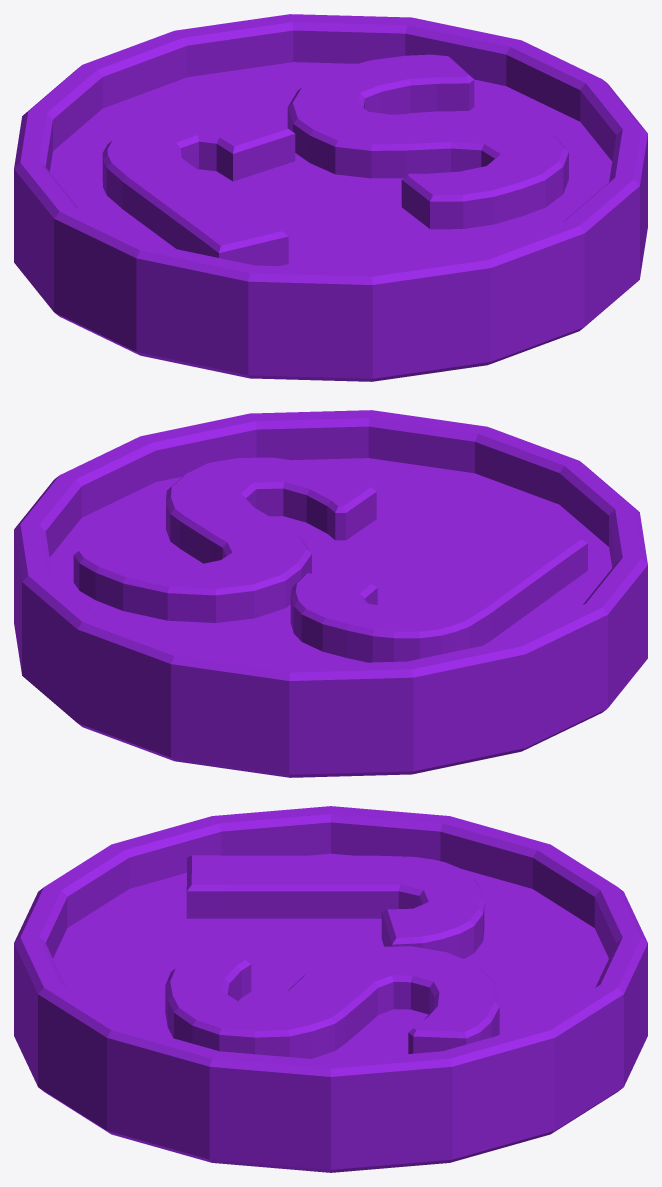
The model's file is SuperJumpCoin.fbx.
3 renders of one model, top to bottom at view 1: azimuth 30°, elevation 25°; view 2: azimuth 150°, elevation 25°; view 3: azimuth 270°, elevation 25°, orthographic.
Visible parts, largest first — view 1: SuperJumpCoin; view 2: SuperJumpCoin; view 3: SuperJumpCoin.
Part boxes in pixels (x1,y1,x2,y2): SuperJumpCoin: [14, 14, 647, 381]; SuperJumpCoin: [14, 410, 647, 777]; SuperJumpCoin: [14, 806, 647, 1172].
Size of the model in its own units: 200 by 36.3 by 200.
